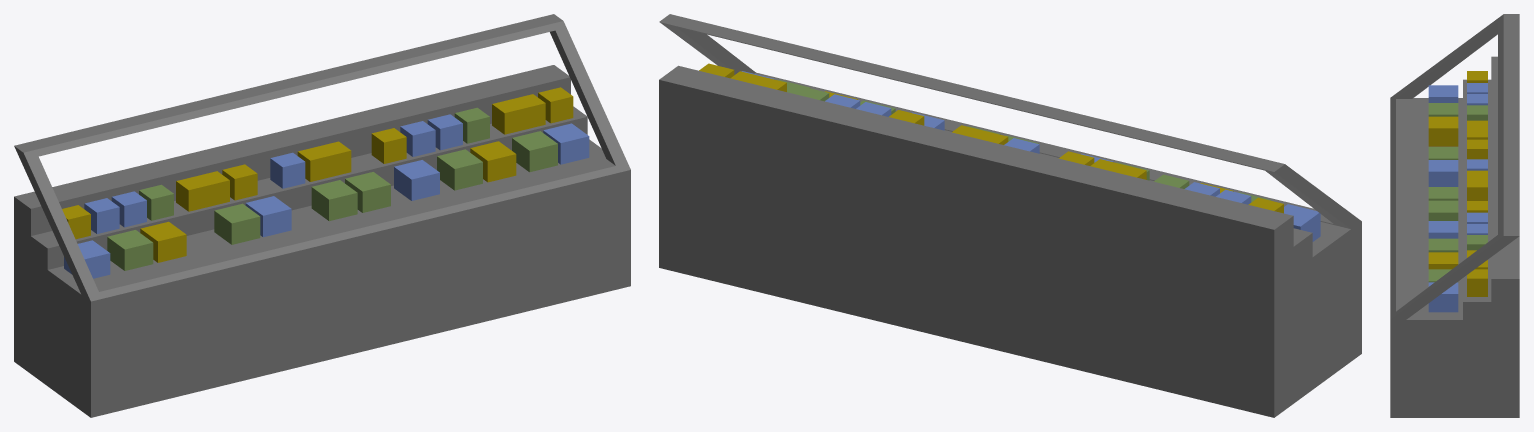
File: SM_DeliCounter.fbx
The picture shows the model from 3 angles, left to right: view 1: azimuth 30°, elevation 25°; view 2: azimuth 150°, elevation 25°; view 3: azimuth 270°, elevation 25°; orthographic projection. The views are drawn at different scales.
Visible parts, largest first — view 1: DeliCounter, DeliItem8, DeliItem20, DeliItem7, DeliItem5, DeliItem3, DeliItem15, DeliItem1, DeliItem16, DeliItem18, DeliItem2, DeliItem17 (+15 smaller); view 2: DeliCounter, DeliItem; view 3: DeliCounter, DeliItem2, DeliItem4, DeliItem19, DeliItem7, DeliItem6, DeliItem21, DeliItem, DeliItem15, DeliItem17, DeliItem16, DeliItem9 (+14 smaller).
Boxes of the visible parts, x1,y1,x2,y2 form: DeliCounter: [14, 14, 630, 417]; DeliItem8: [176, 171, 229, 211]; DeliItem20: [492, 94, 545, 134]; DeliItem7: [297, 141, 351, 181]; DeliItem5: [311, 180, 357, 221]; DeliItem3: [214, 203, 260, 244]; DeliItem15: [394, 160, 439, 200]; DeliItem1: [107, 230, 153, 270]; DeliItem16: [437, 149, 482, 190]; DeliItem18: [512, 131, 557, 172]; DeliItem2: [140, 221, 186, 262]; DeliItem17: [470, 141, 516, 182]; DeliCounter: [659, 14, 1361, 417]; DeliItem: [1284, 204, 1320, 241]; DeliCounter: [1390, 14, 1519, 417]; DeliItem2: [1428, 116, 1458, 146]; DeliItem4: [1428, 160, 1458, 186]; DeliItem19: [1428, 282, 1458, 312]; DeliItem7: [1467, 170, 1487, 200]; DeliItem6: [1428, 200, 1458, 220]; DeliItem21: [1467, 269, 1487, 296]; DeliItem: [1428, 85, 1458, 102]; DeliItem15: [1428, 221, 1458, 238]; DeliItem17: [1428, 252, 1458, 269]; DeliItem16: [1428, 238, 1458, 252]; DeliItem9: [1467, 139, 1487, 159].
Bounding box in the file's own units: 911 × 348 × 225.
